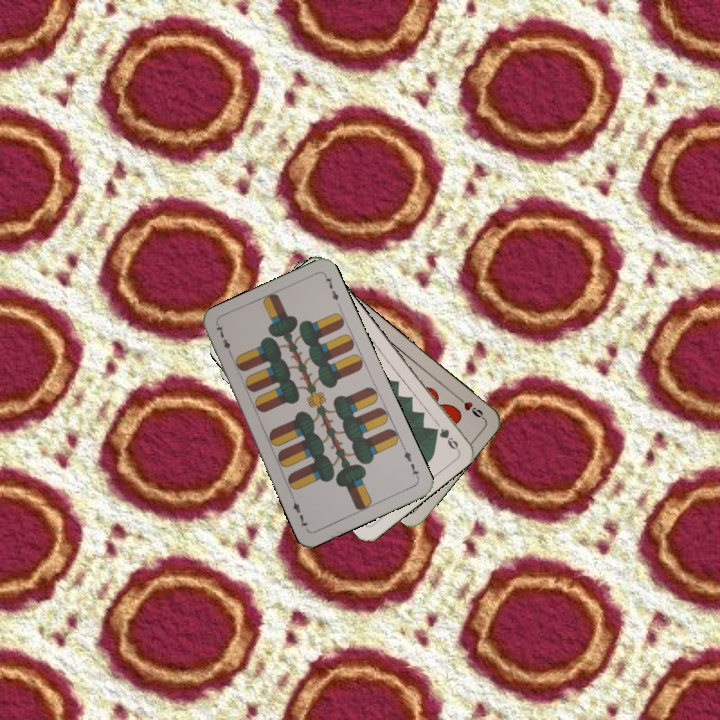E7: (399, 443, 422, 482), (212, 321, 235, 359)
G9: (435, 424, 461, 453)
H9: (452, 392, 487, 421)
